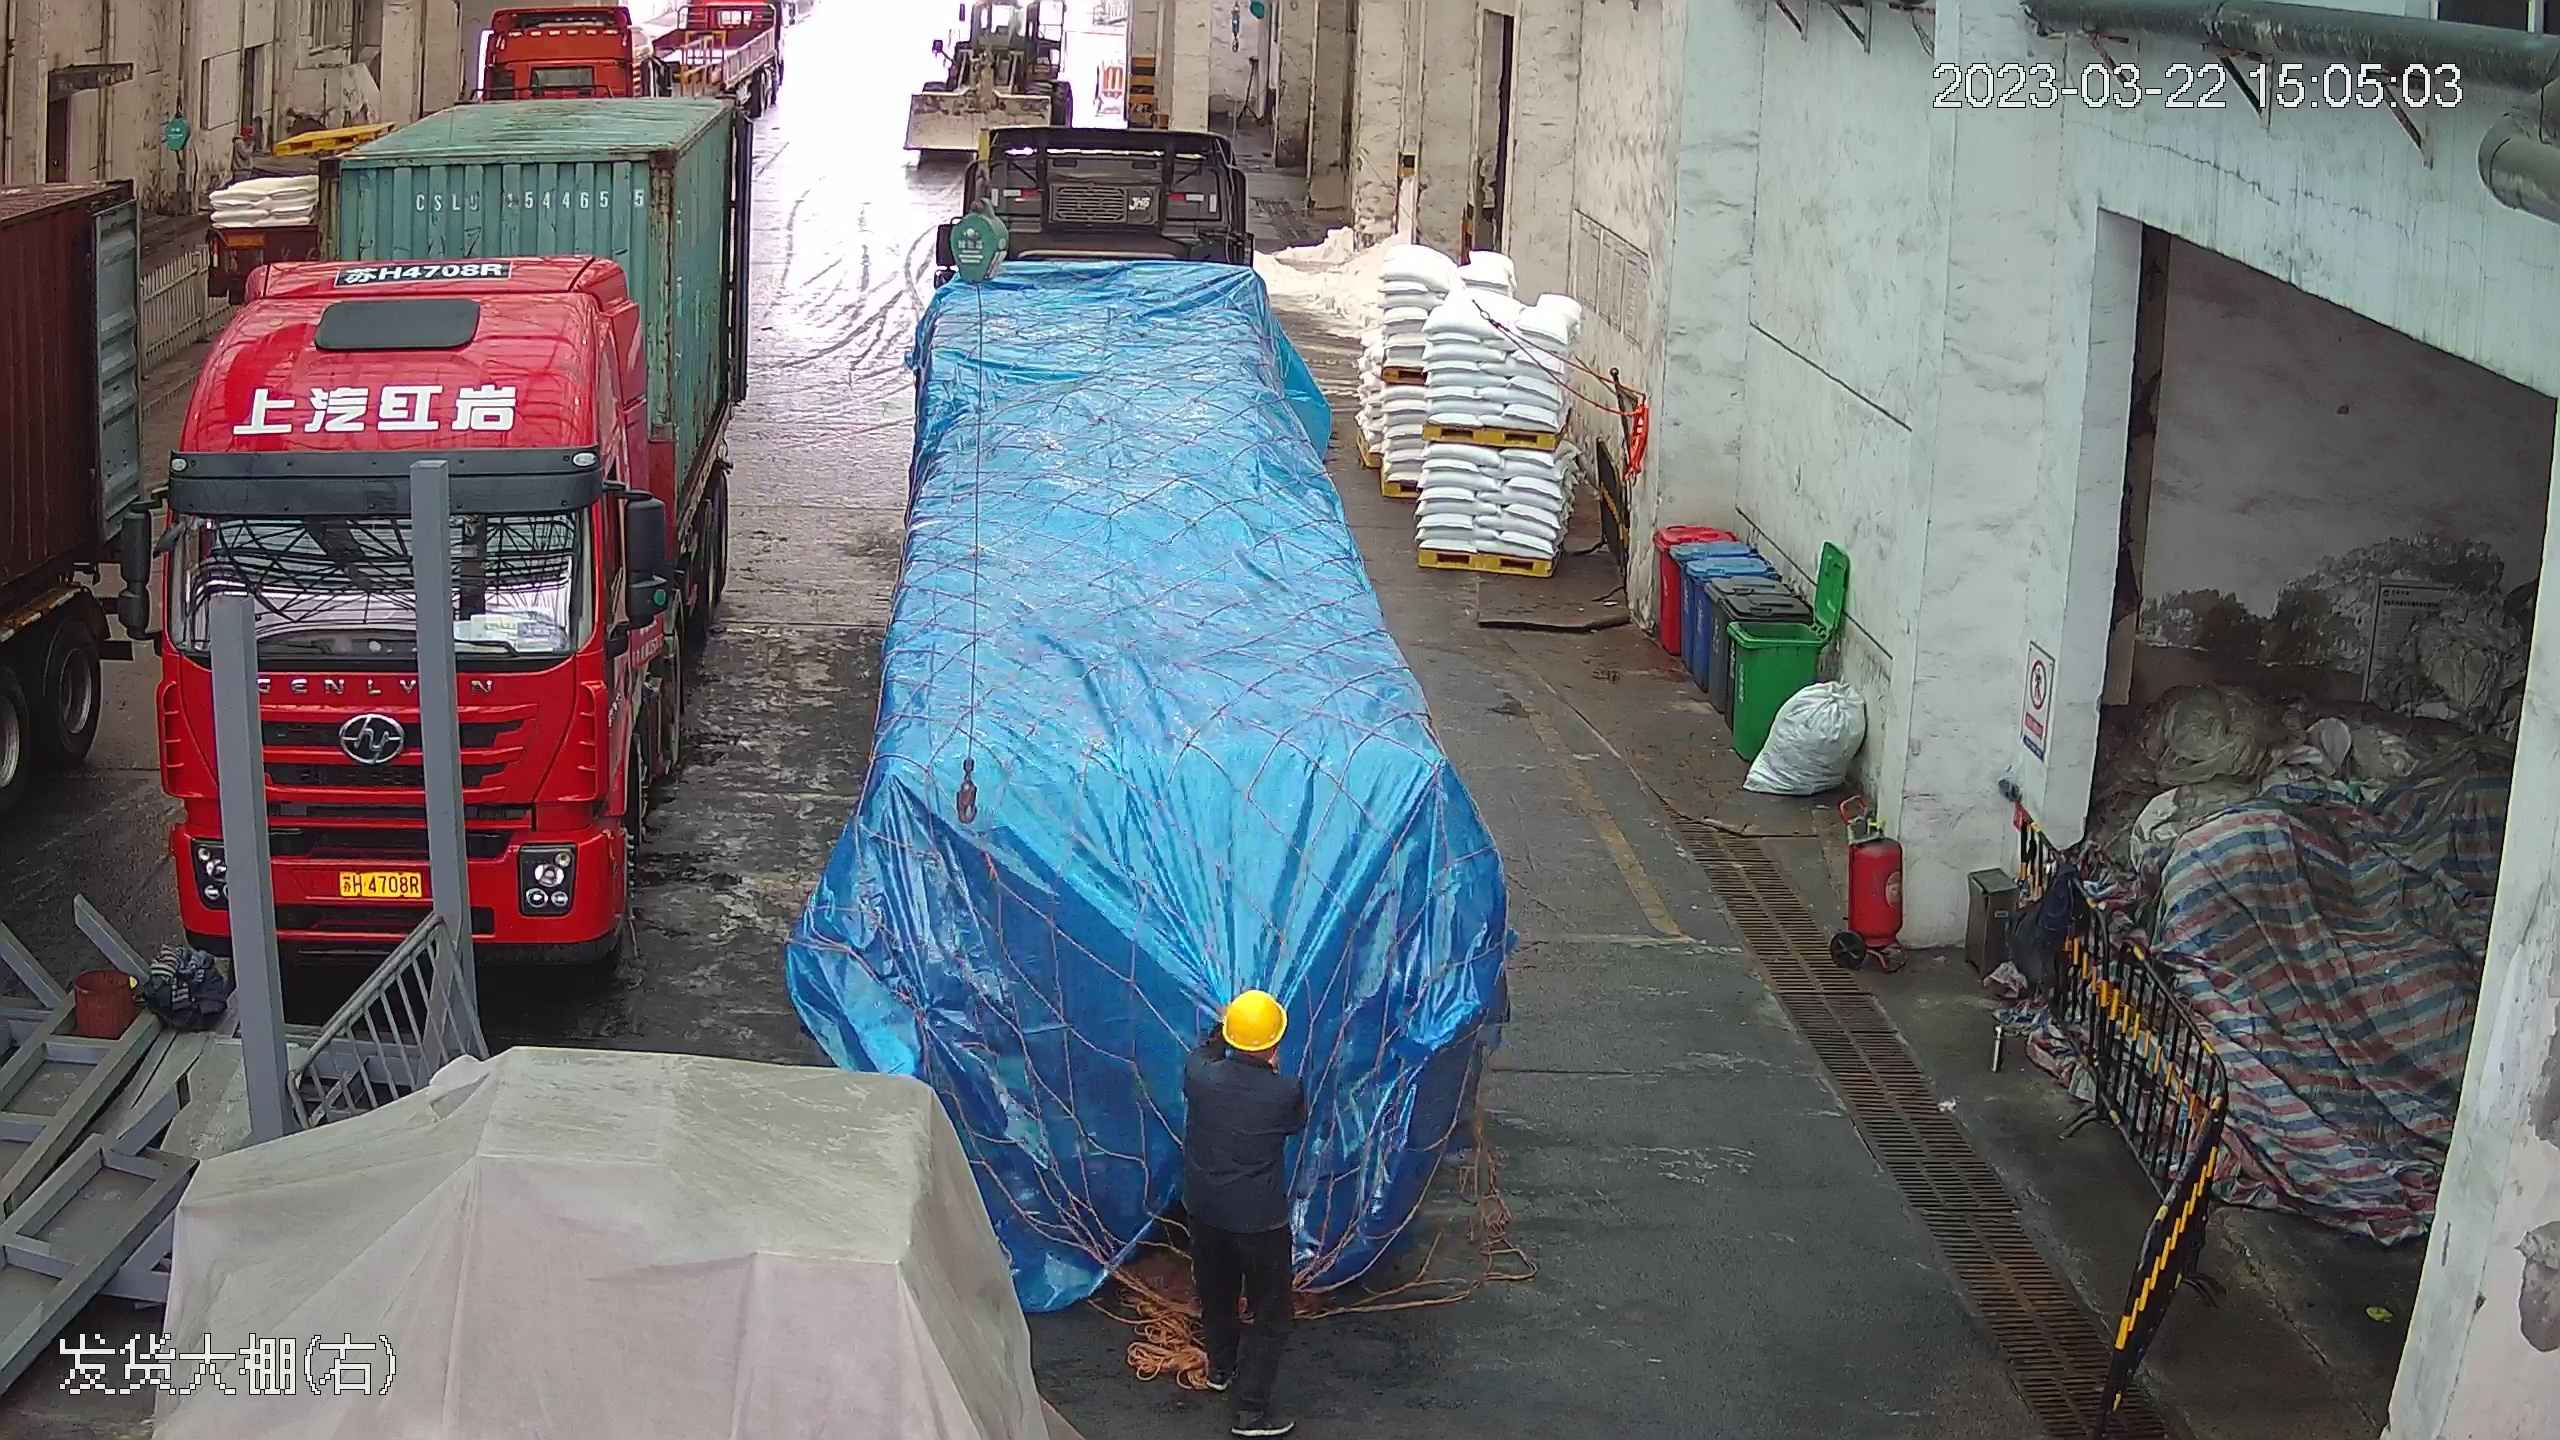head: (1179, 984, 1303, 1117)
helmet: (1220, 985, 1291, 1050)
people: (1155, 984, 1313, 1408)
truck: (795, 11, 1556, 1427), (144, 9, 762, 965), (1, 90, 163, 1071)
